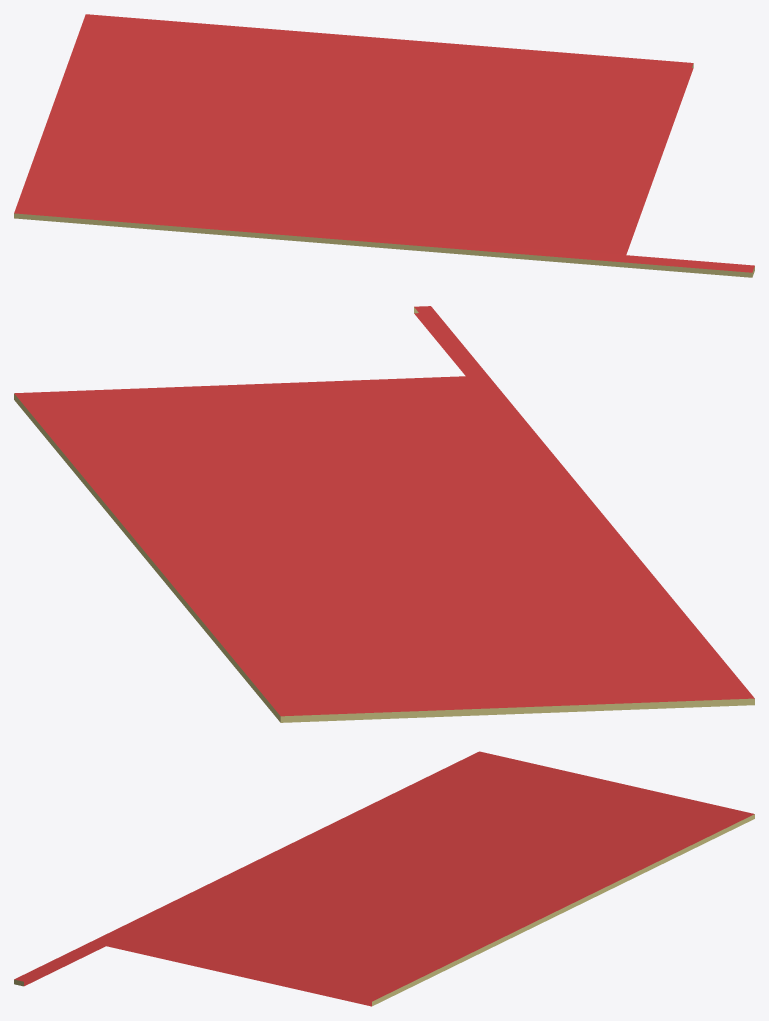
The picture shows the model from 3 angles, top to bottom: view 1: azimuth 30°, elevation 25°; view 2: azimuth 150°, elevation 25°; view 3: azimuth 270°, elevation 25°; orthographic projection. The views are drawn at different scales.
Bounding box in the file's own units: 12.92 × 14.03 × 0.89.
